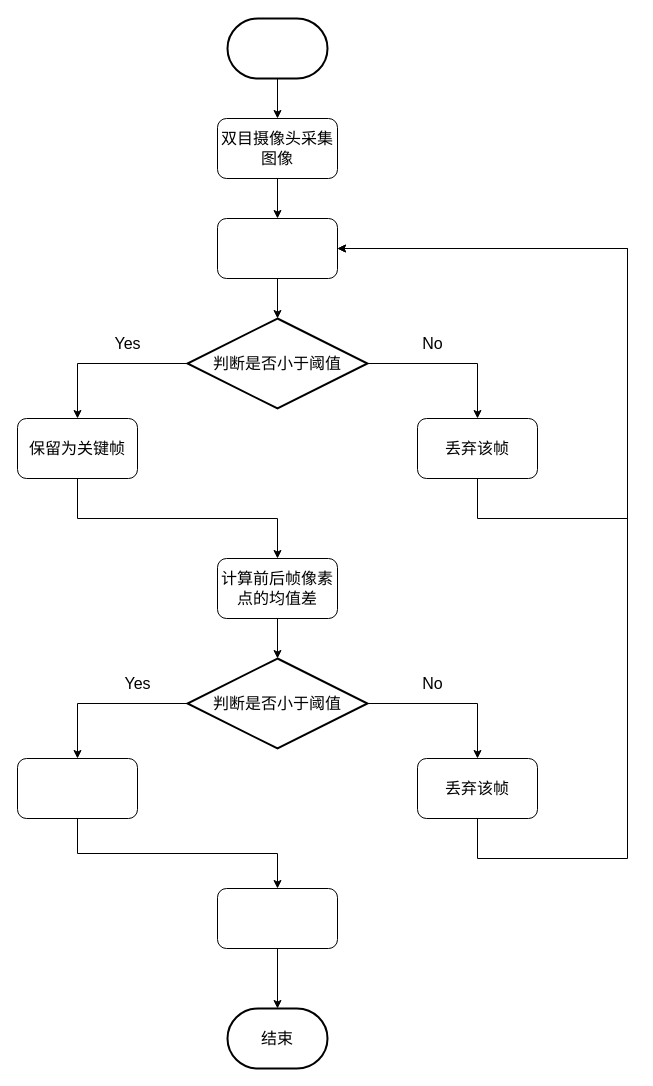
Some shapes in this 653 by 1086 pixel diagram are drawn without their labels. The box of each missing label's shape, as (x1, y1, x2, y2) in pixels:
保留该帧: (16, 758, 138, 818)
双边滤波: (216, 888, 338, 948)
开始: (226, 17, 328, 79)
求解帧的二阶差分均值: (216, 218, 338, 278)
